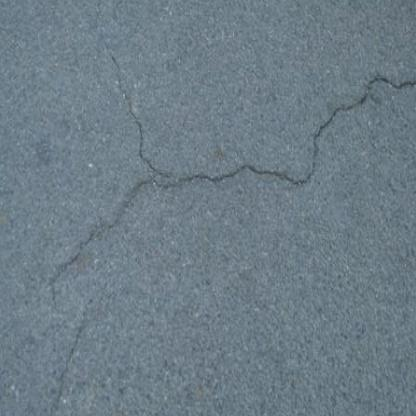Cracks: (36, 177, 156, 416), (111, 119, 365, 204), (301, 48, 416, 211), (91, 26, 192, 195)
